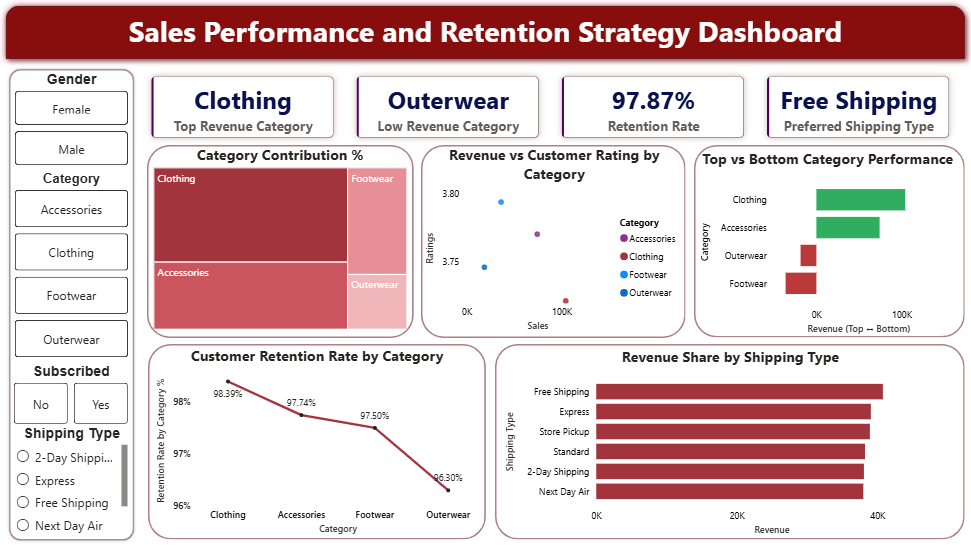

This screenshot's page, from the dashboard's own definition file:
{"tool":"powerbi","page":{"name":"Sales Performance and Retention Strategy Dashboard","canvas":[1280,720],"ordinal":2},"visuals":[{"type":"shape","box":[0,0,1280,88],"z":0},{"type":"shape","box":[9.2,87.7,172.8,628.4],"z":1000},{"type":"advancedSlicerVisual","fields":{"Values":["retail_customer_intelligence_cleaned.category"]},"box":[15.1,225.7,159.7,253.2],"z":2000},{"type":"advancedSlicerVisual","fields":{"Values":["retail_customer_intelligence_cleaned.gender"]},"box":[15.7,94.3,159.7,130.9],"z":3000},{"type":"advancedSlicerVisual","fields":{"Values":["retail_customer_intelligence_cleaned.subscription_status"]},"box":[14.7,478.7,161.3,85.3],"z":4000},{"type":"listSlicer","fields":{"Values":["retail_customer_intelligence_cleaned.shipping_type"]},"box":[17.3,560,157.3,152],"z":5000},{"type":"shape","box":[555.8,192.3,348.2,254],"z":6000},{"type":"shape","box":[195.4,454.2,444.6,257.4],"z":7000},{"type":"shape","box":[913.9,192.7,356.5,253.2],"z":8000},{"type":"shape","box":[195.1,192.4,350.8,254],"z":9000},{"type":"shape","box":[652.4,454.2,618,257.4],"z":10000},{"type":"textbox","box":[0,11.5,1280.2,61.9],"z":11000},{"type":"cardVisual","fields":{"Data":["retail_customer_intelligence_cleaned.Best Performing Category","retail_customer_intelligence_cleaned.Lowest Performing Category","retail_customer_intelligence_cleaned.Repeat Purchase Rate %","retail_customer_intelligence_cleaned.Top Shipping Type"]},"box":[172.8,73.3,1107.5,137.5],"z":12000},{"type":"treemap","title":"Category Contribution %","fields":{"Group":["retail_customer_intelligence_cleaned.category"],"Values":["Sum(retail_customer_intelligence_cleaned.purchase_amount)"]},"box":[199,192.4,343,247.4],"z":13000},{"type":"clusteredBarChart","title":"Revenue Share by Shipping Type","fields":{"Category":["retail_customer_intelligence_cleaned.shipping_type"],"Y":["Sum(retail_customer_intelligence_cleaned.purchase_amount)"]},"box":[662,458.3,601.5,253.2],"z":14000},{"type":"scatterChart","title":"Revenue vs Customer Rating by Category","fields":{"X":["Sum(retail_customer_intelligence_cleaned.purchase_amount)"],"Y":["Avg(retail_customer_intelligence_cleaned.review_rating)"],"Series":["retail_customer_intelligence_cleaned.category"]},"box":[556,192.7,348.2,250.5],"z":15000},{"type":"clusteredBarChart","title":"Top vs Bottom Category Performance","fields":{"Category":["retail_customer_intelligence_cleaned.category"],"Y":["retail_customer_intelligence_cleaned.TopBottom Value"]},"box":[919,197.7,344.3,248.7],"z":16000},{"type":"lineChart","title":"Customer Retention Rate by Category","fields":{"Category":["retail_customer_intelligence_cleaned.category"],"Y":["Customer Summary.Retention Rate by Category %"]},"box":[202.3,456.9,432.2,253.2],"z":17000}]}

Visuals, with their boxes in screenshot pixels (x1, y1, x2, y2), scaled from the page's 1280x720 canvas onto the 971x545 screenshot:
shape: (left=0, top=0, right=970, bottom=67)
shape: (left=7, top=66, right=138, bottom=542)
advancedSlicerVisual - retail_customer_intelligence_cleaned.category: (left=11, top=171, right=133, bottom=363)
advancedSlicerVisual - retail_customer_intelligence_cleaned.gender: (left=12, top=71, right=133, bottom=170)
advancedSlicerVisual - retail_customer_intelligence_cleaned.subscription_status: (left=11, top=362, right=134, bottom=427)
listSlicer - retail_customer_intelligence_cleaned.shipping_type: (left=13, top=424, right=132, bottom=539)
shape: (left=422, top=146, right=686, bottom=338)
shape: (left=148, top=344, right=486, bottom=539)
shape: (left=693, top=146, right=964, bottom=338)
shape: (left=148, top=146, right=414, bottom=338)
shape: (left=495, top=344, right=964, bottom=539)
textbox: (left=0, top=9, right=970, bottom=56)
cardVisual - retail_customer_intelligence_cleaned.Best Performing Category x retail_customer_intelligence_cleaned.Lowest Performing Category: (left=131, top=55, right=970, bottom=160)
"Category Contribution %" treemap: (left=151, top=146, right=411, bottom=333)
"Revenue Share by Shipping Type" clusteredBarChart: (left=502, top=347, right=958, bottom=539)
"Revenue vs Customer Rating by Category" scatterChart: (left=422, top=146, right=686, bottom=335)
"Top vs Bottom Category Performance" clusteredBarChart: (left=697, top=150, right=958, bottom=338)
"Customer Retention Rate by Category" lineChart: (left=153, top=346, right=481, bottom=538)
